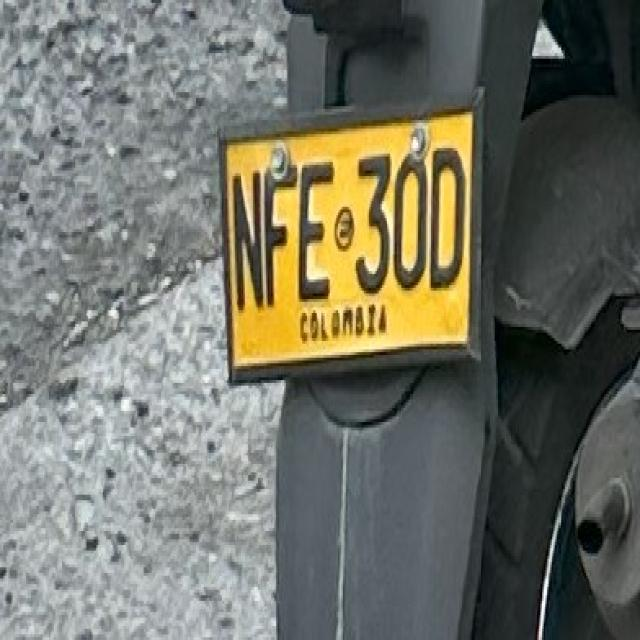number plate: (219, 98, 477, 374)
